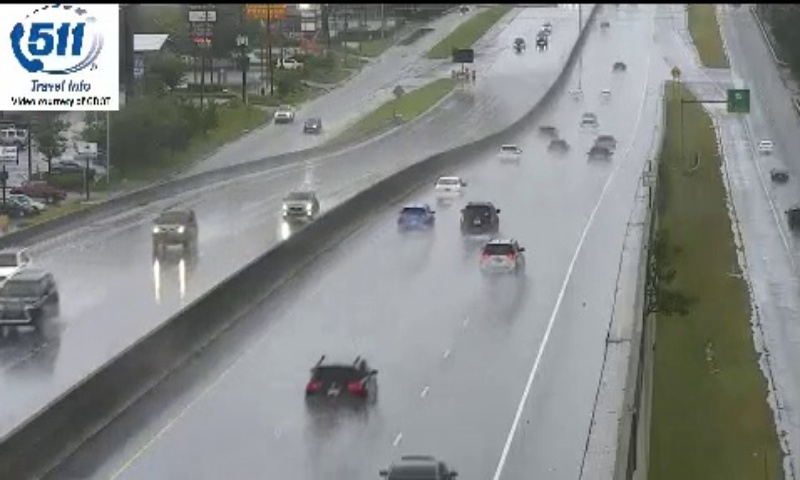car: (304, 354, 378, 409), (480, 240, 525, 276), (460, 201, 498, 236), (396, 203, 433, 232), (433, 177, 463, 201), (497, 142, 520, 161)
